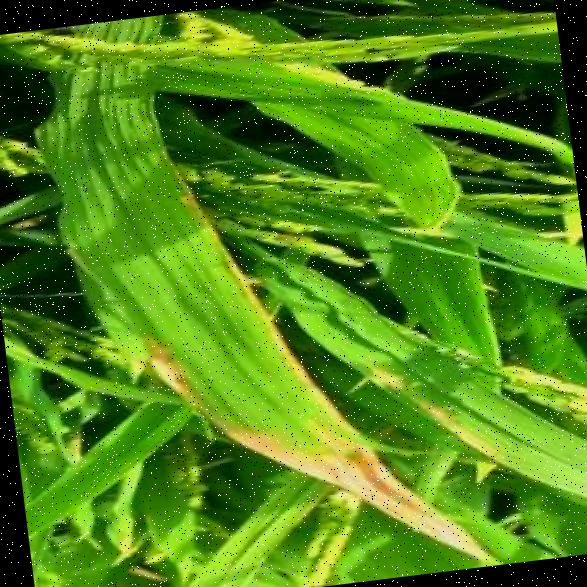Bacteria_Leaf_Blight: (70, 42, 325, 511)
